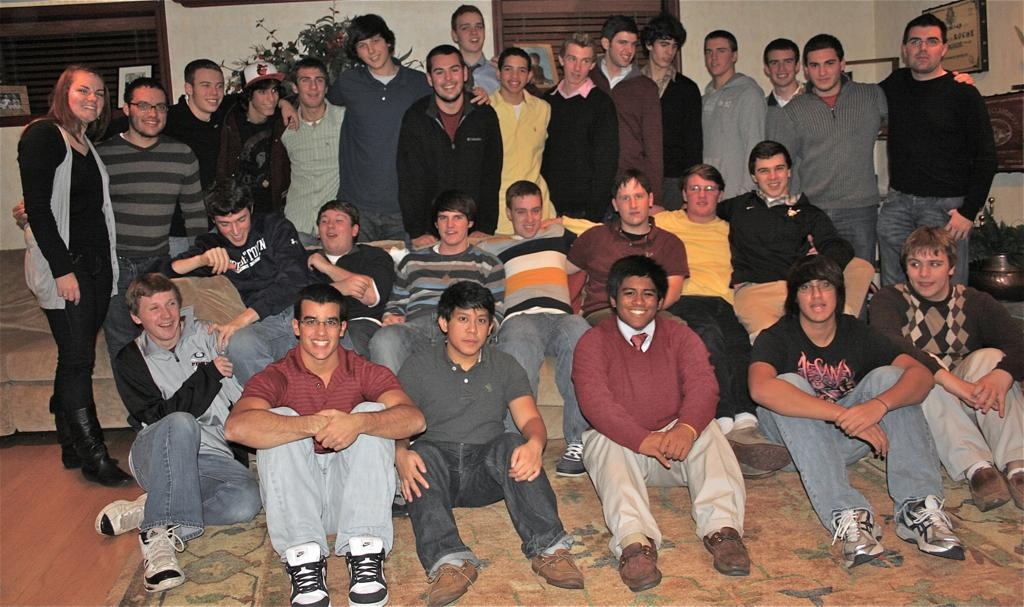face: (299, 297, 340, 359), (615, 273, 657, 329), (905, 245, 949, 297), (448, 301, 488, 354), (138, 290, 179, 340), (796, 275, 836, 322), (68, 70, 103, 122), (130, 86, 167, 135), (905, 25, 942, 74), (430, 53, 464, 101), (616, 178, 648, 225), (754, 152, 788, 196), (805, 48, 840, 90), (510, 193, 541, 238), (319, 209, 353, 250), (686, 174, 718, 217), (214, 208, 250, 246), (194, 69, 224, 112), (564, 42, 592, 84), (297, 66, 324, 108), (455, 12, 484, 51), (436, 210, 468, 245), (703, 37, 731, 75), (356, 34, 387, 68), (767, 50, 796, 86), (501, 54, 527, 93), (610, 30, 637, 67), (252, 83, 279, 115), (652, 34, 676, 68)
